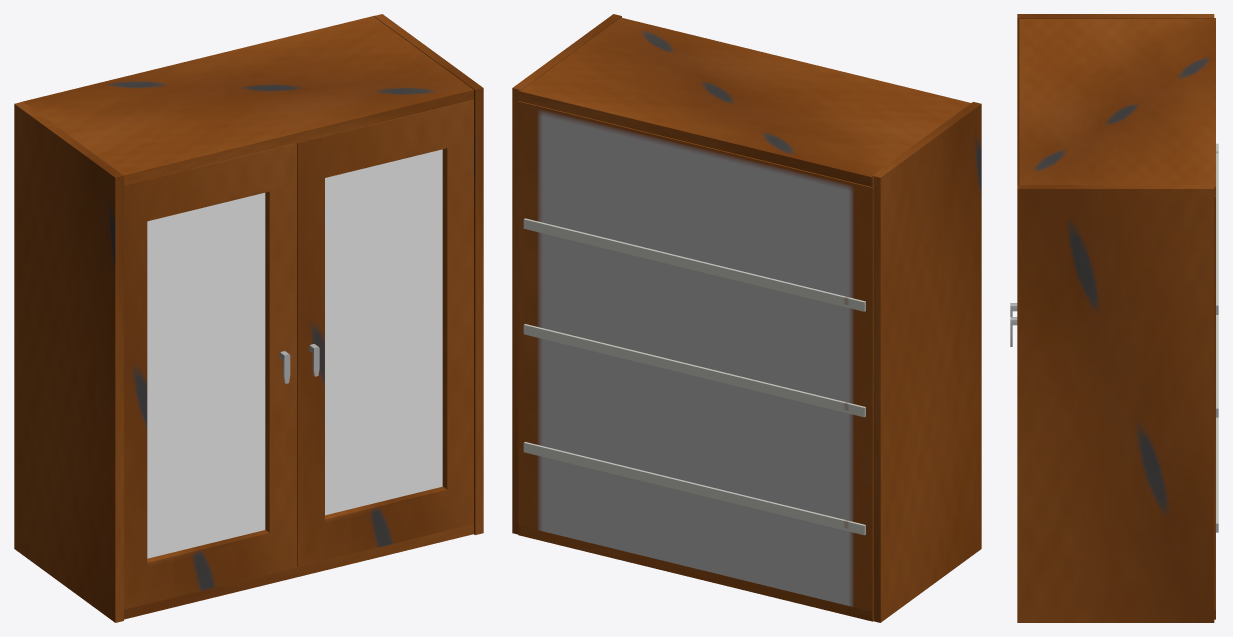
File: showcase.fbx
The picture shows the model from 3 angles, left to right: view 1: azimuth 30°, elevation 25°; view 2: azimuth 150°, elevation 25°; view 3: azimuth 270°, elevation 25°; orthographic projection. The views are drawn at different scales.
Visible parts, largest first — view 1: pCube142, showcase_mirror_4, showcase_mirror_3, pCube144, pCube173, pCube140, pCube201, pCube172; view 2: pCube141, pCube142, pCube144, pCube201, pCube146, pCube145, pCube147, pCube172; view 3: pCube201, pCube144, pCube142, pCube141, pCube145, pCube147, pCube146.
Part boxes in pixels (x1,y1,x2,y2): pCube142: (14,102,123,622); showcase_mirror_4: (147,192,265,558); showcase_mirror_3: (325,149,442,515); pCube144: (20,15,473,184); pCube173: (297,100,473,566); pCube140: (124,143,296,609); pCube201: (374,14,483,534); pCube172: (124,524,473,619); pCube141: (518,101,873,611); pCube142: (872,102,981,622); pCube144: (518,17,970,187); pCube201: (512,14,621,534); pCube146: (523,324,865,417); pCube145: (523,218,865,311); pCube147: (523,442,865,535); pCube172: (518,525,873,621); pCube201: (1017,185,1214,622); pCube144: (1019,18,1215,195); pCube142: (1017,14,1214,184); pCube141: (1214,196,1215,612); pCube145: (1216,143,1218,314); pCube147: (1216,417,1218,532); pCube146: (1216,315,1218,417).
Bounding box in the file's own units: 238 × 275 × 120.
